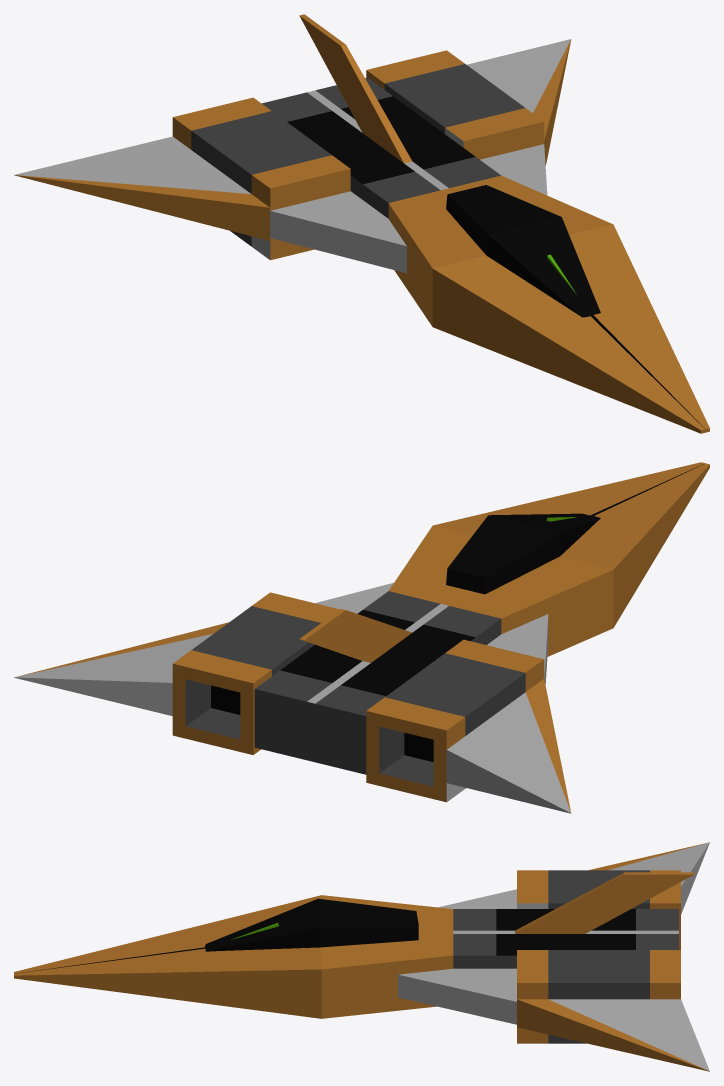
Rendered from B_Spaceship_8_Kyrios.fbx.
3 views of the same model, one above another, from view 1: azimuth 30°, elevation 25°; view 2: azimuth 150°, elevation 25°; view 3: azimuth 270°, elevation 25° (orthographic). The views are drawn at different scales.
Visible parts, largest first — view 1: pCube1; view 2: pCube1; view 3: pCube1.
Part boxes in pixels (<box>): pCube1: <box>14,14,709,433</box>; pCube1: <box>14,462,709,813</box>; pCube1: <box>14,842,709,1071</box>.
Bounding box in the file's own units: 0.0995 × 0.1277 × 0.023.
